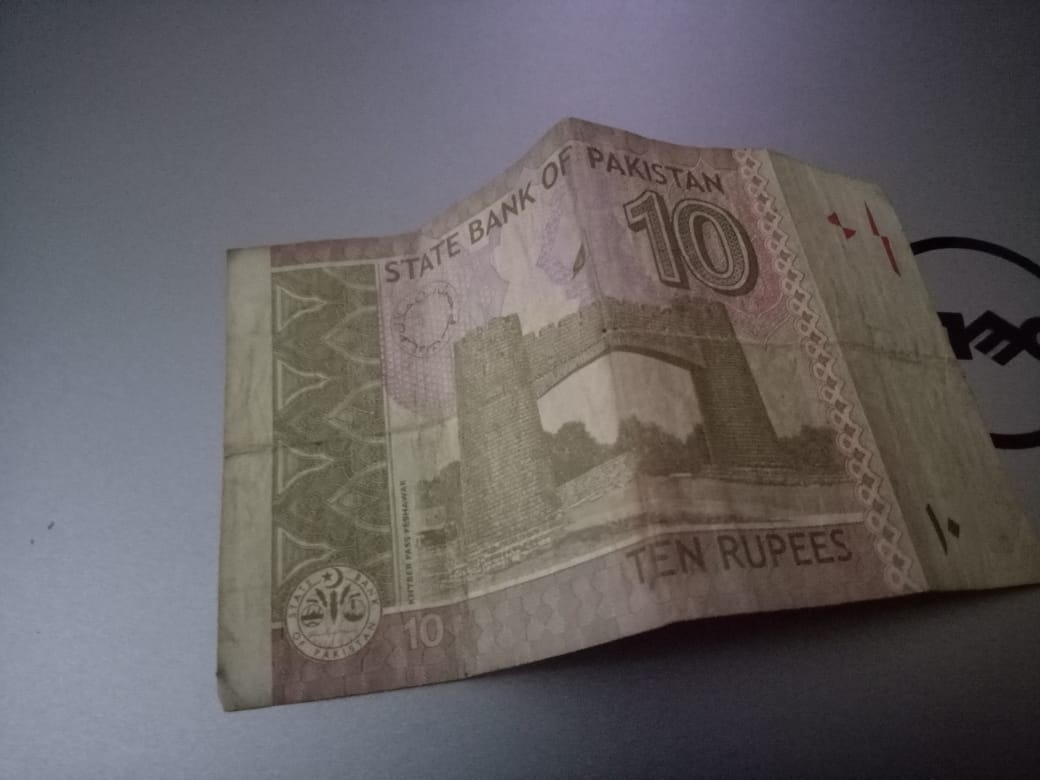10 rupee: (185, 96, 1021, 719)
